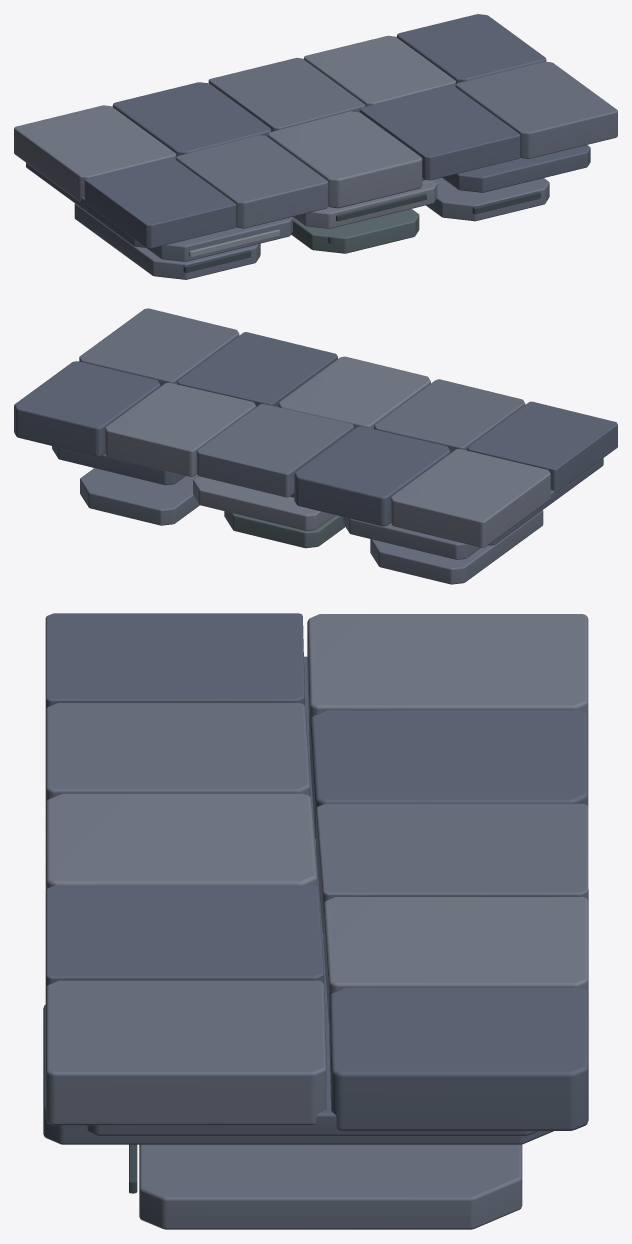
File: BG_ENV_INNER_BRIDGE_001.glb
The picture shows the model from 3 angles, top to bottom: view 1: azimuth 30°, elevation 25°; view 2: azimuth 150°, elevation 25°; view 3: azimuth 270°, elevation 25°; orthographic projection. The views are drawn at different scales.
Parts seen in each view (by area): view 1: BG_ENV_INNER_BRIDGE_001_mesh, Cold mirror side insert 0_game, Cold mirror side insert 1_game, Thin underside mirror 2_game, Thin underside mirror 0_game; view 2: BG_ENV_INNER_BRIDGE_001_mesh; view 3: BG_ENV_INNER_BRIDGE_001_mesh.
Part boxes in pixels (x1,y1,x2,y2): BG_ENV_INNER_BRIDGE_001_mesh: (14,14,617,279); Cold mirror side insert 0_game: (189,229,280,257); Cold mirror side insert 1_game: (336,193,426,221); Thin underside mirror 2_game: (472,191,540,214); Thin underside mirror 0_game: (183,250,251,272); BG_ENV_INNER_BRIDGE_001_mesh: (14,308,617,584); BG_ENV_INNER_BRIDGE_001_mesh: (43,613,588,1229).
Bounding box in the file's own units: 1.99 × 0.398 × 0.9962.
Materials: 3 (1 with a texture image).
